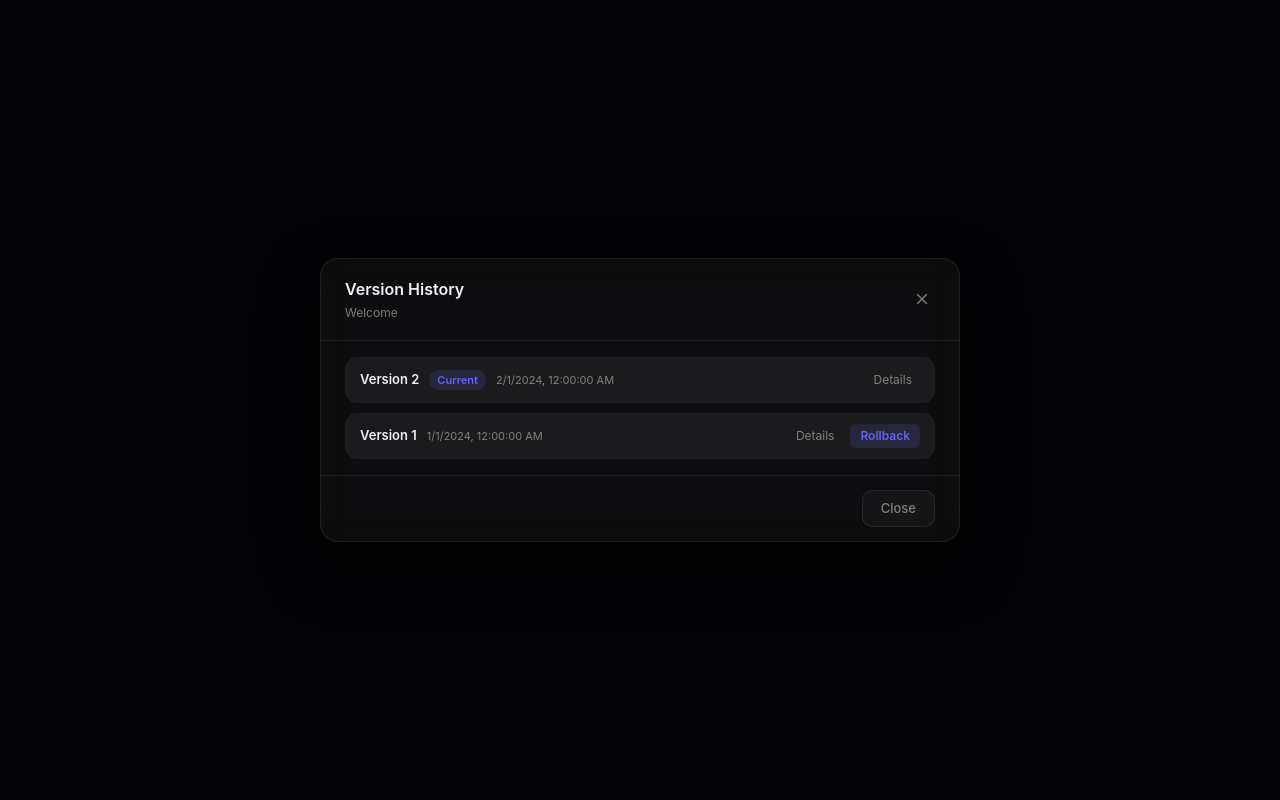
Test case: TemplateVersionHistory › shows confirm dialog on rollback click
The width and height of the screenshot is (1280, 800).
Expected: the list with test id "version-list" is shown, [345,357,935,459]
Click the button with test id "rollback-button-1" at (885, 436), box [850,424,920,448]
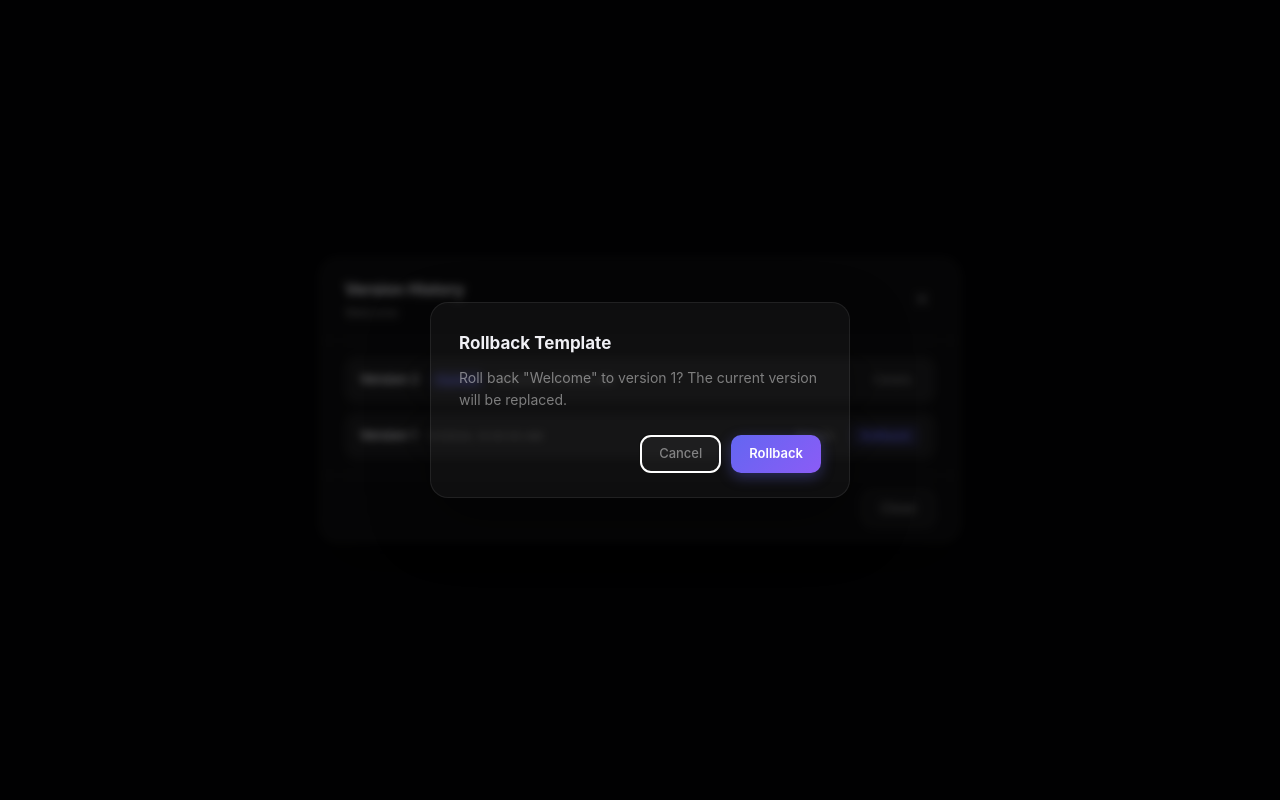
Result: the dialog with test id "confirm-dialog" is shown
Result: the text with test id "confirm-dialog-message" shows "version 1" at [459,369,817,408]
